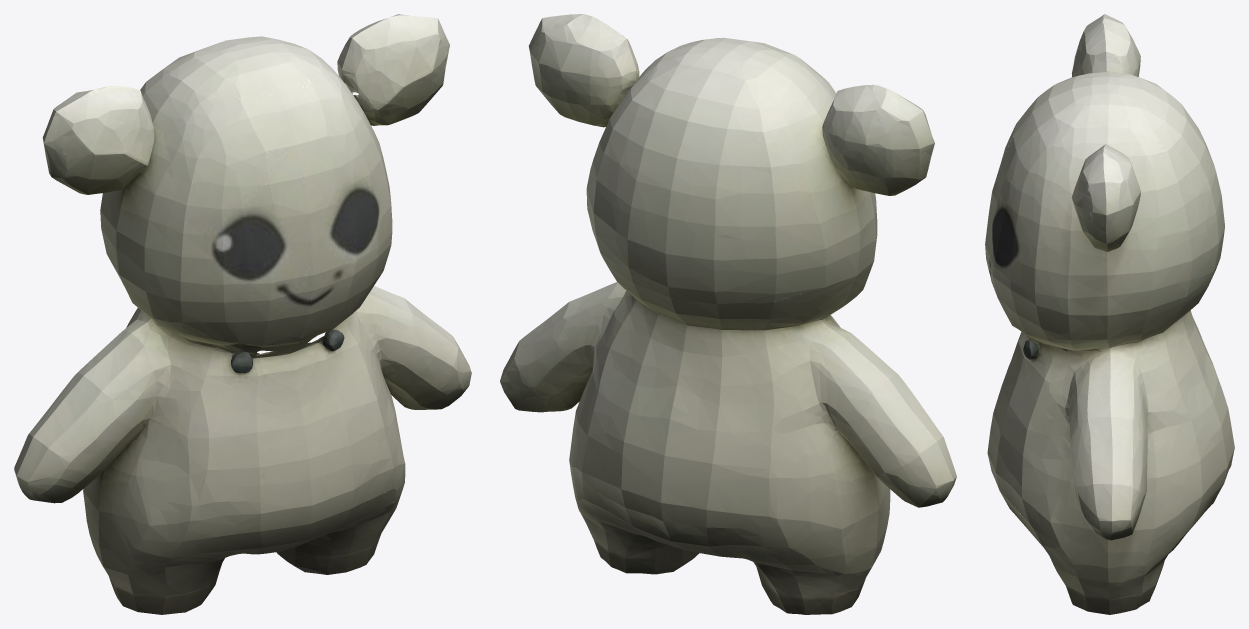
The picture shows the model from 3 angles, left to right: view 1: azimuth 30°, elevation 25°; view 2: azimuth 150°, elevation 25°; view 3: azimuth 270°, elevation 25°; orthographic projection. The views are drawn at different scales.
Visible parts, largest first — view 1: world; view 2: world; view 3: world.
Part boxes in pixels (x1,y1,x2,y2): world: (14, 14, 471, 614); world: (500, 14, 956, 614); world: (985, 14, 1234, 614).
Bounding box in the file's own units: 0.8914 × 0.9991 × 0.4723.
Materials: 1 (1 with a texture image).
